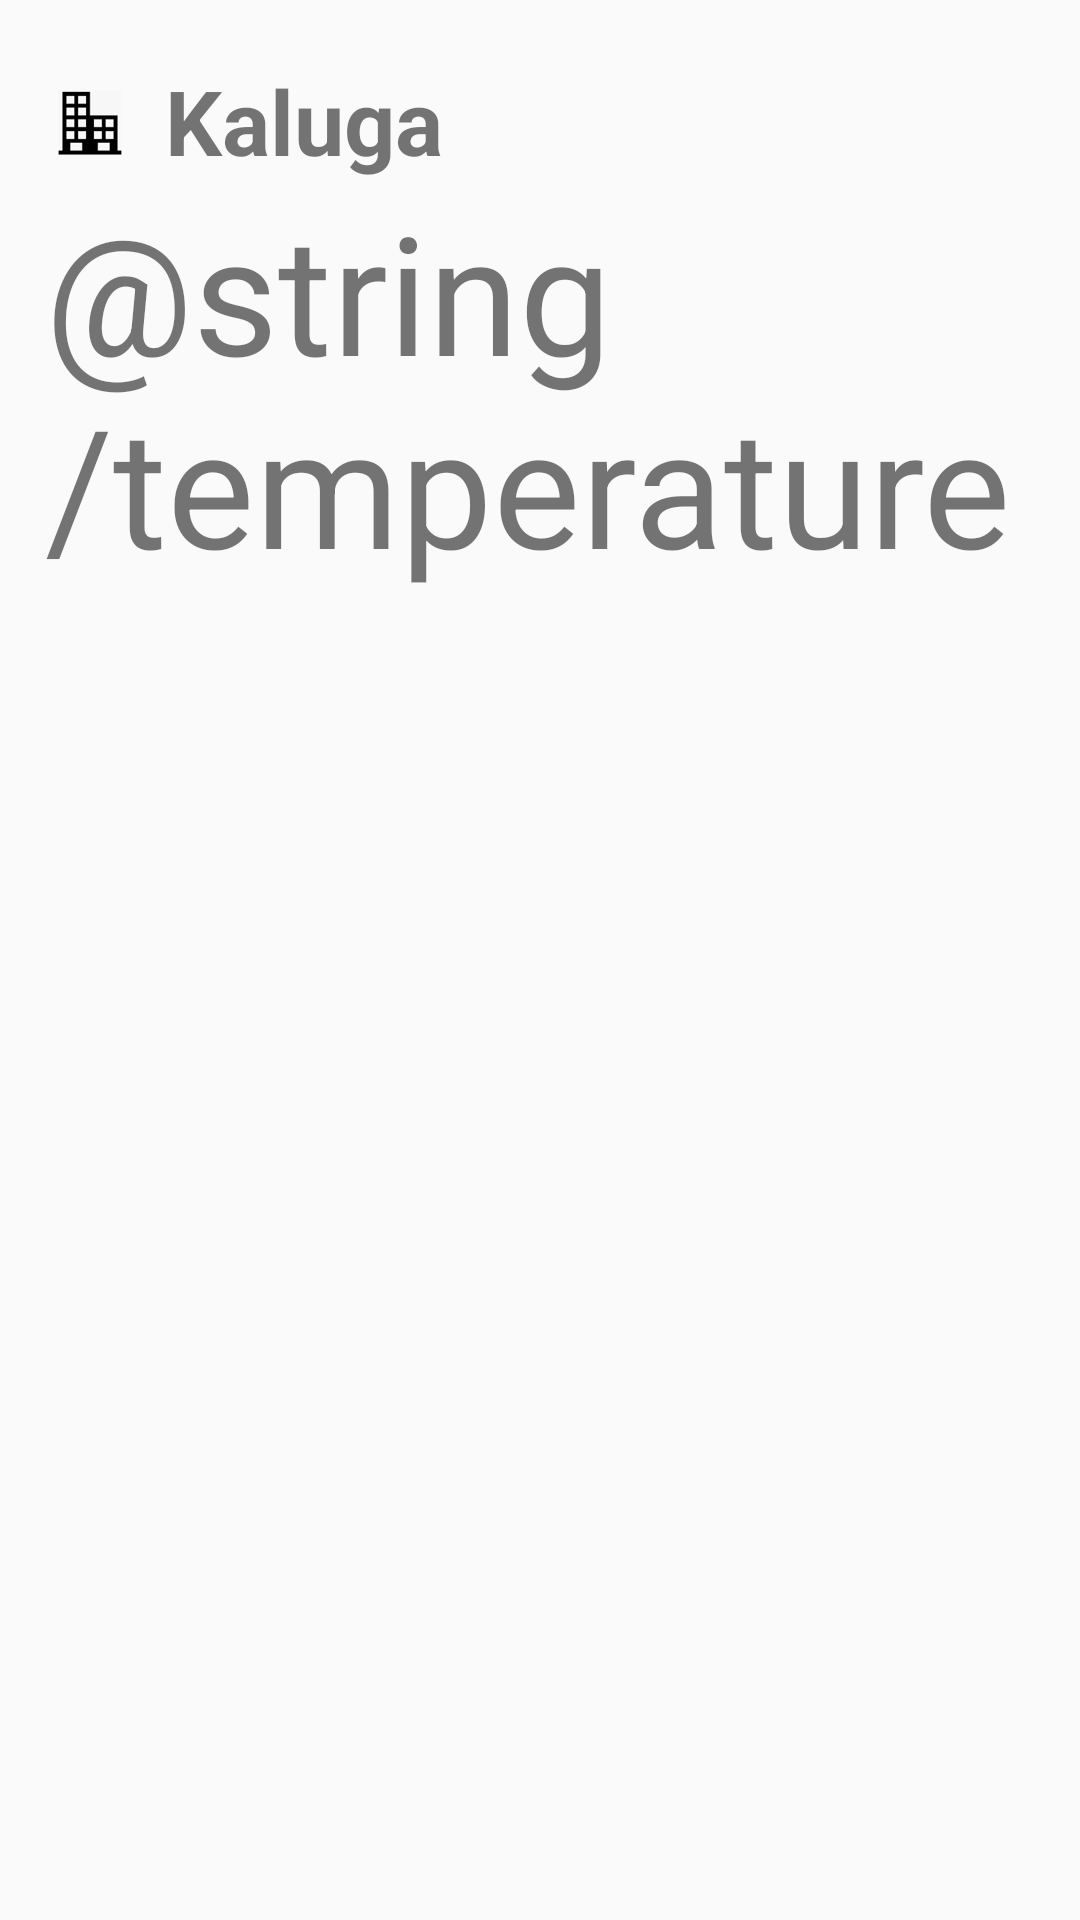

Icons on this 1080px x 1920px Android screen, each with the point to tap as (x,y):
Сity: (90,123)
